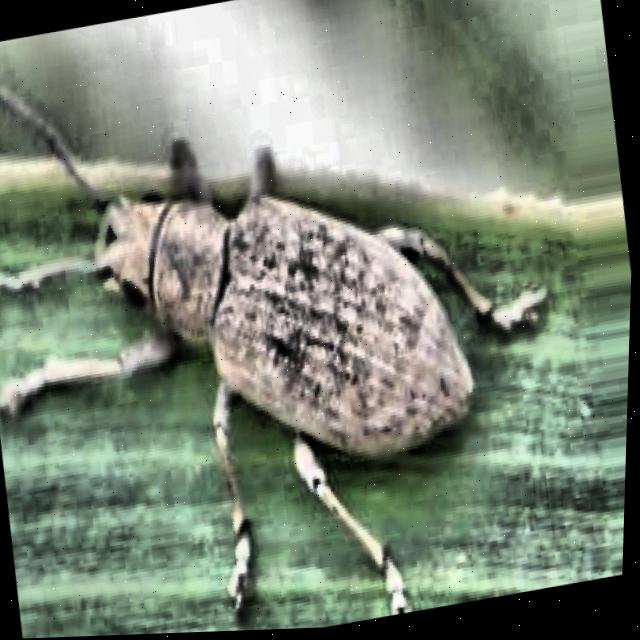Stink bug: (4, 76, 500, 639)
